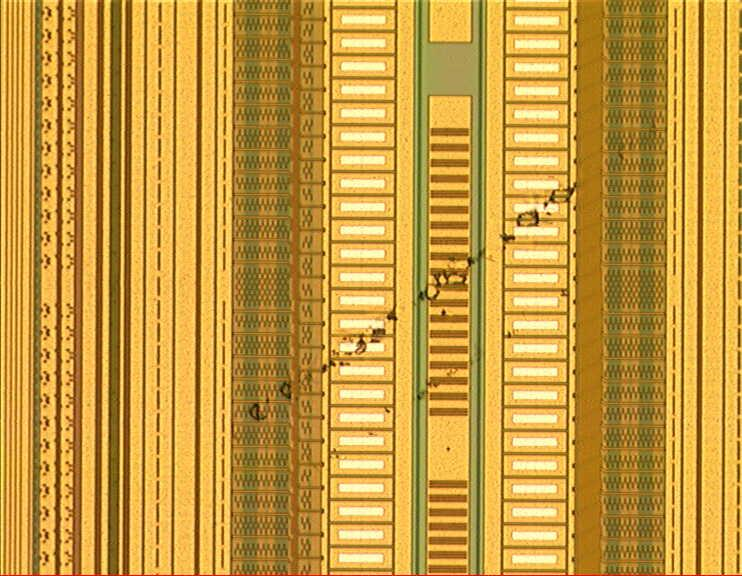SCRATCH: (243, 172, 584, 476)
